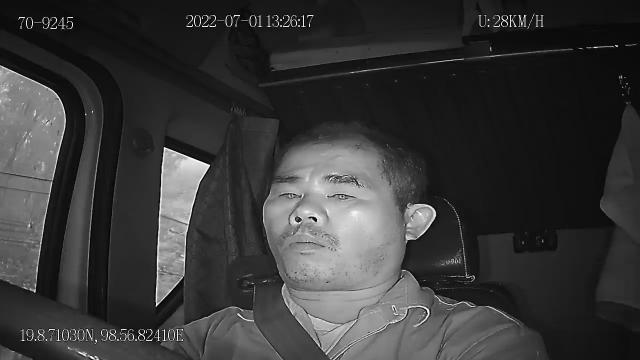SafeDriving: (320, 179, 364, 207), (270, 180, 308, 206)
Seatbelt: (255, 283, 330, 360)
